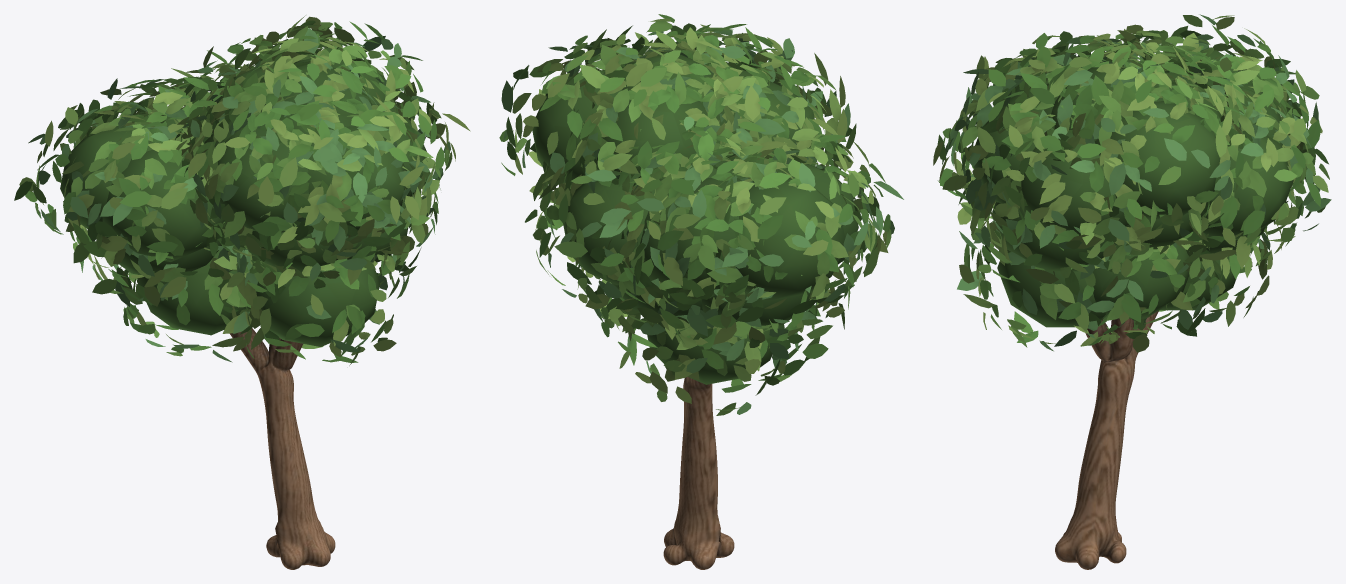
Rendered from tree_2.glb.
3 renders of one model, left to right at view 1: azimuth 30°, elevation 25°; view 2: azimuth 150°, elevation 25°; view 3: azimuth 270°, elevation 25°, orthographic. The views are drawn at different scales.
Parts seen in each view (by area): view 1: tree2_leaves, tree2_bark; view 2: tree2_leaves, tree2_bark; view 3: tree2_leaves, tree2_bark.
Boxes of the visible parts, box(x1,y1,x2,y2) form: tree2_leaves: box(14, 15, 470, 365); tree2_bark: box(229, 328, 335, 569); tree2_leaves: box(499, 14, 903, 415); tree2_bark: box(663, 376, 734, 569); tree2_leaves: box(933, 14, 1331, 352); tree2_bark: box(1055, 310, 1158, 569).
Size of the model in its own units: 3.65 by 4.78 by 3.31.
Materials: 2 (1 with a texture image).
